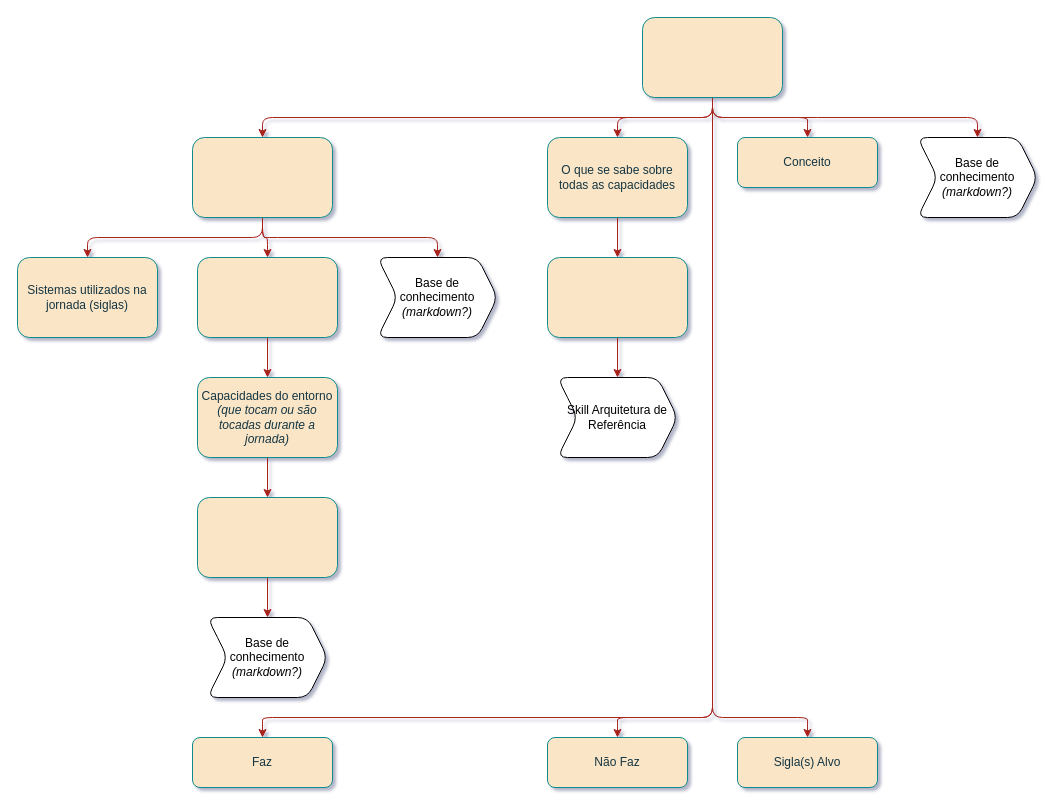
Image size: 1061x811. Some labels were removed from this diagram. Here are the shapes that lost their labels. From the top down, the centre of each, then its label:
pixel 712 57: O que se sabe sobre a capacidade que está sendo direcionada
pixel 262 177: O que se sabe sobre a jornada do produto
pixel 267 297: Mapa de jornada do produto
pixel 617 297: Arquitetura de Referência GM&T
pixel 267 537: Serviços de negócio x siglas x capacidades
